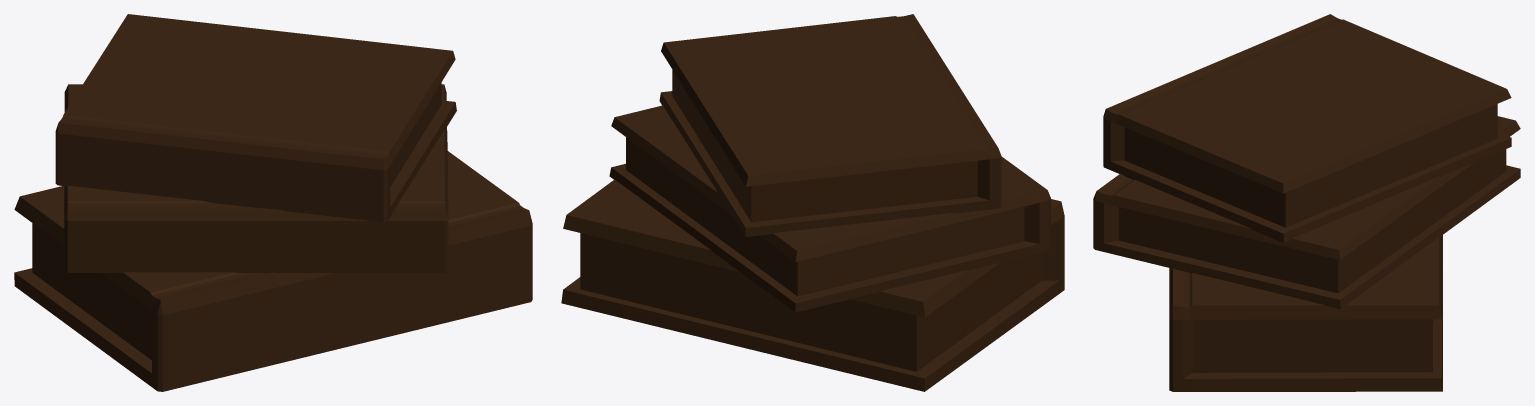
The model's file is BookStack.FBX.
3 renders of one model, left to right at view 1: azimuth 30°, elevation 25°; view 2: azimuth 150°, elevation 25°; view 3: azimuth 270°, elevation 25°, orthographic. The views are drawn at different scales.
Parts seen in each view (by area): view 1: Box188; view 2: Box188; view 3: Box188.
Boxes of the visible parts, x1=… form: Box188: x1=14, y1=14, x2=532, y2=391; Box188: x1=561, y1=14, x2=1064, y2=391; Box188: x1=1093, y1=14, x2=1520, y2=391.
Bounding box in the file's own units: 115 × 109 × 55.68.
